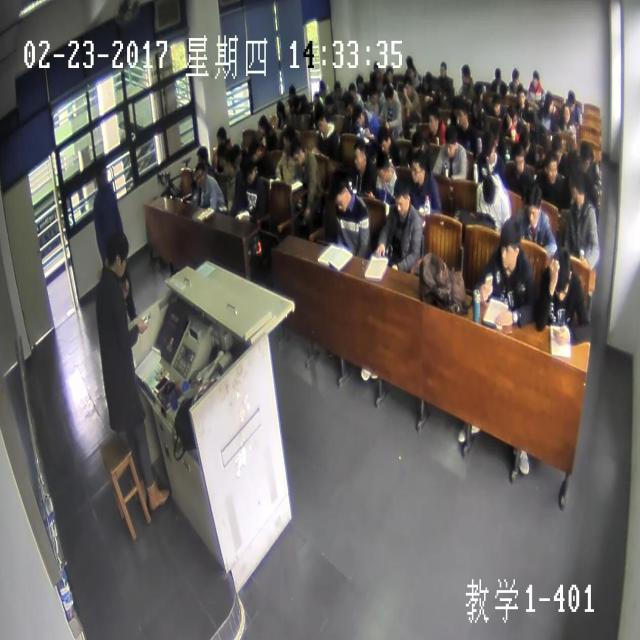person: (548, 244, 571, 298), (104, 234, 128, 281), (499, 214, 518, 273), (526, 180, 542, 231), (332, 172, 352, 212), (91, 159, 113, 191), (395, 180, 412, 217), (570, 174, 586, 213), (242, 152, 260, 184), (248, 139, 269, 165), (377, 150, 393, 180), (578, 140, 592, 174), (482, 131, 495, 167), (408, 155, 424, 183), (378, 126, 393, 155), (340, 88, 354, 119), (354, 139, 367, 172), (480, 177, 495, 204), (216, 142, 229, 173), (545, 152, 557, 183), (410, 130, 424, 156), (516, 86, 530, 112), (229, 144, 245, 166), (292, 142, 306, 167), (444, 127, 456, 156), (507, 102, 520, 128), (256, 113, 270, 137), (216, 122, 229, 147), (197, 146, 211, 169), (368, 82, 382, 104), (552, 134, 562, 163), (514, 145, 524, 173), (529, 67, 541, 90), (543, 89, 555, 112), (473, 82, 485, 105), (195, 163, 206, 188), (315, 109, 326, 133), (351, 104, 363, 126), (427, 109, 438, 133), (455, 103, 466, 127), (459, 64, 471, 84), (489, 126, 499, 150), (276, 98, 286, 120), (283, 128, 294, 148), (286, 84, 298, 102), (404, 75, 414, 95), (561, 103, 570, 125), (405, 54, 415, 72), (317, 80, 327, 98), (383, 84, 393, 102), (493, 96, 501, 117), (384, 66, 393, 84), (438, 60, 448, 76), (369, 70, 378, 87), (567, 88, 575, 107), (346, 82, 354, 100), (424, 70, 432, 88), (493, 67, 501, 83), (513, 68, 519, 89), (332, 80, 339, 98), (355, 74, 362, 90), (376, 59, 380, 72)
